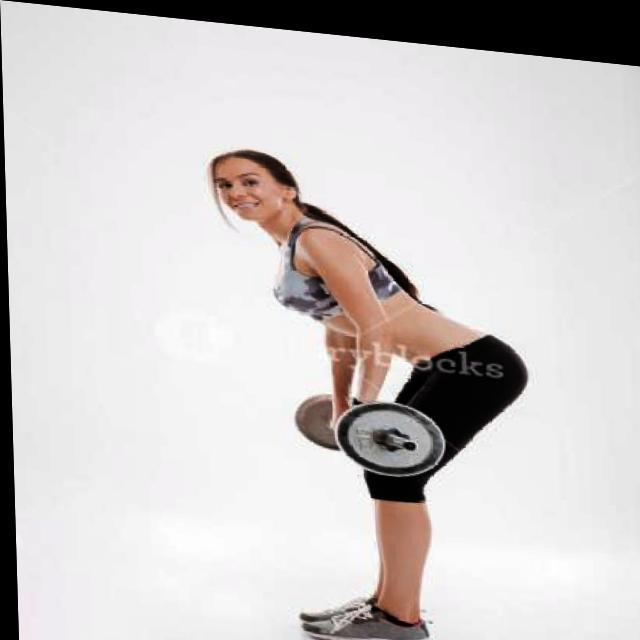barbell: (329, 386, 447, 477)
